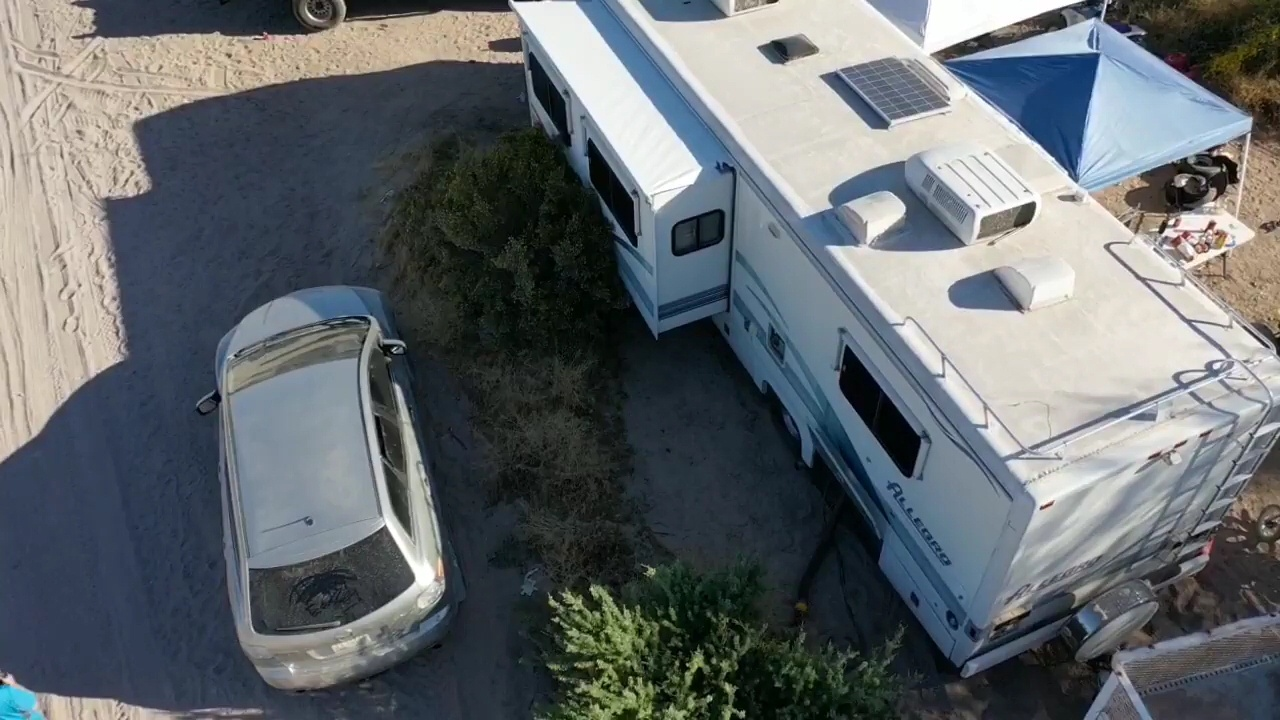araba: (188, 265, 473, 703)
